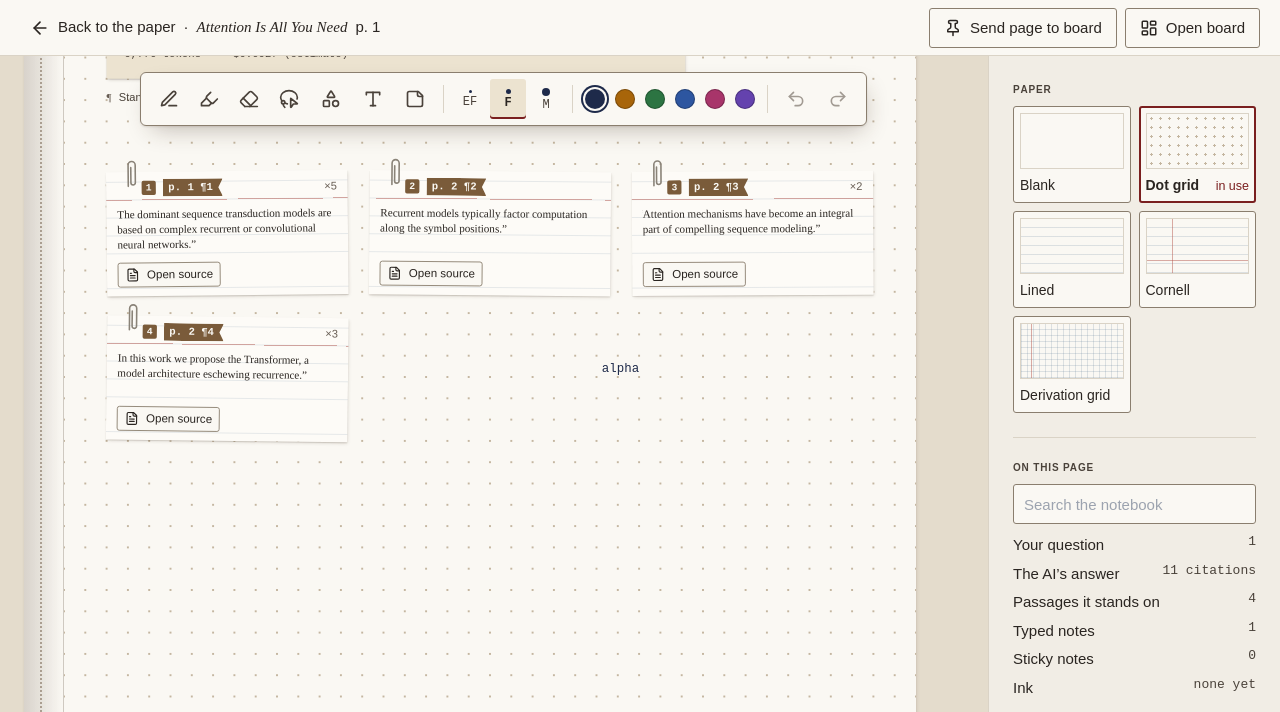
Test case: what cannot be saved › saves again a note deleted elsewhere (404) that held changes: the words are kept
(page scrolled)
Press Enter in the button with aria-label "Typed note: alpha", box [602,361,639,375]
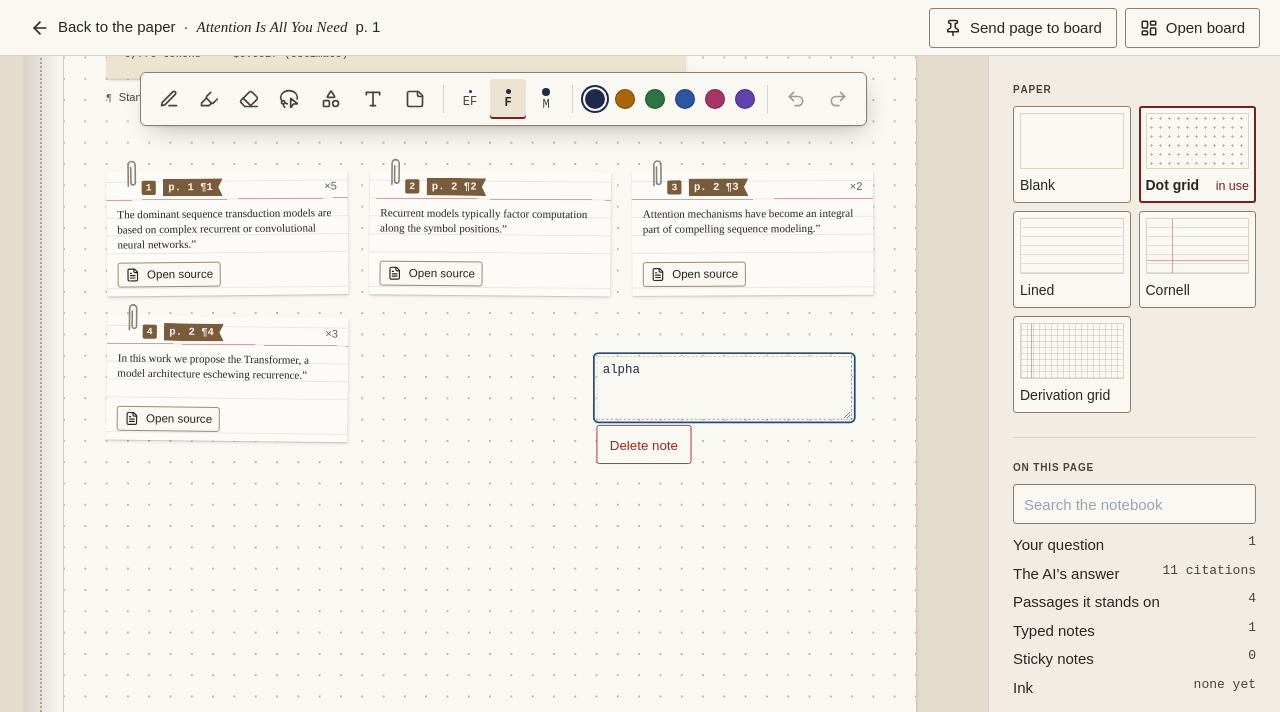
Replace the text in the text box named "Typed note" with "alpha, with a paragraph I just wrote". click: (724, 388)
box: [596,356,852,420]
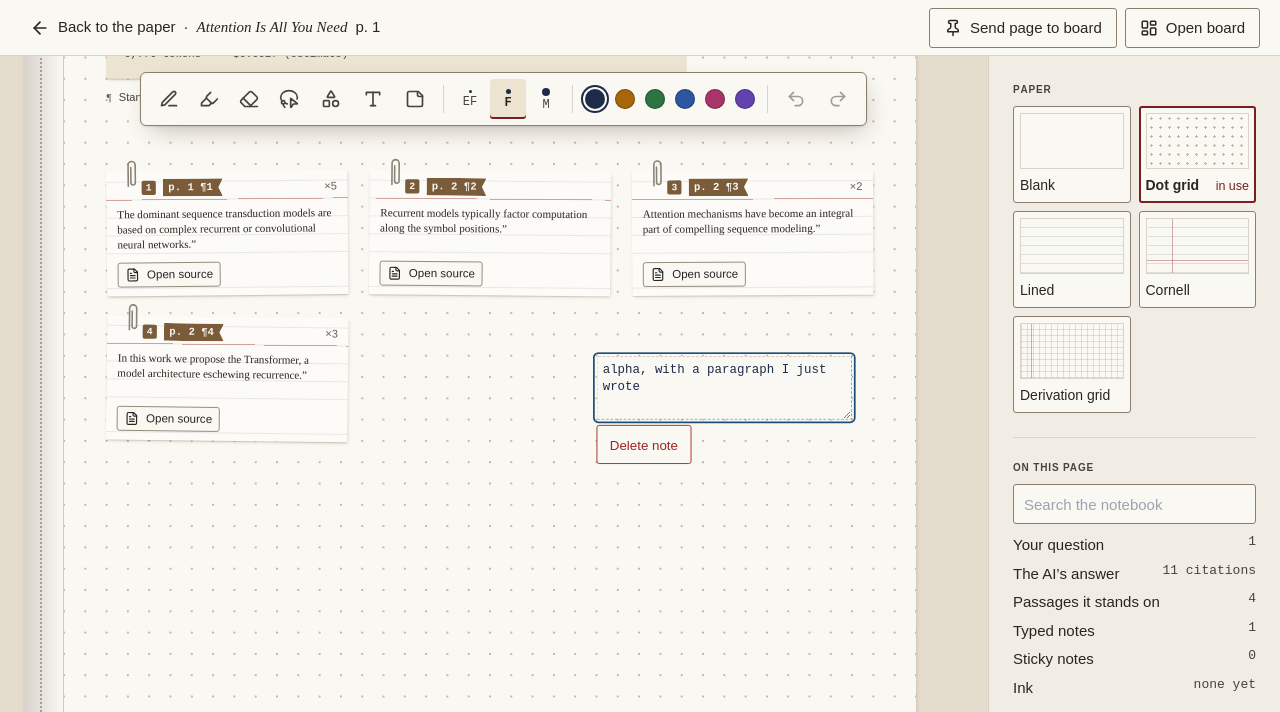
Leave the text box named "Typed note", box [596,356,852,420]
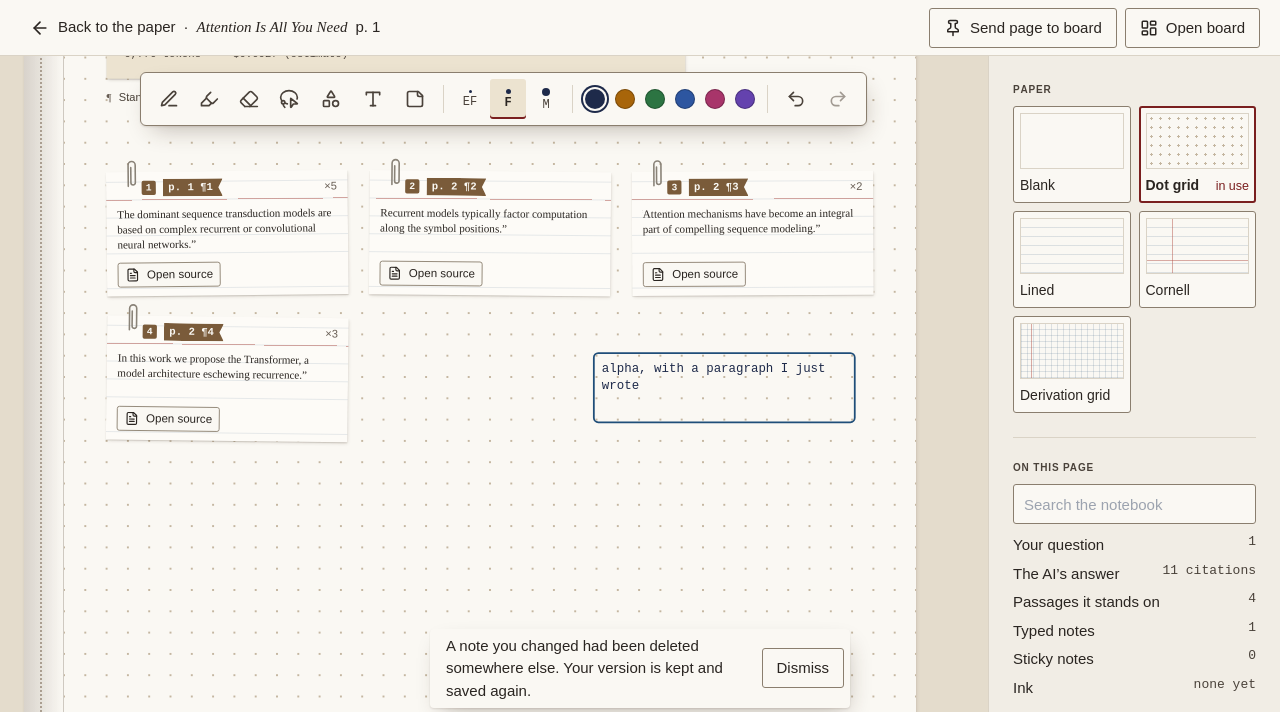
expect the text "A note you changed had been deleted somewhere else. Your version is kept and saved again." is shown: met, box [446,636,723,698]
expect the button with aria-label "Typed note: alpha, with a paragraph I just wrote" is shown: met, box [602,361,833,393]
